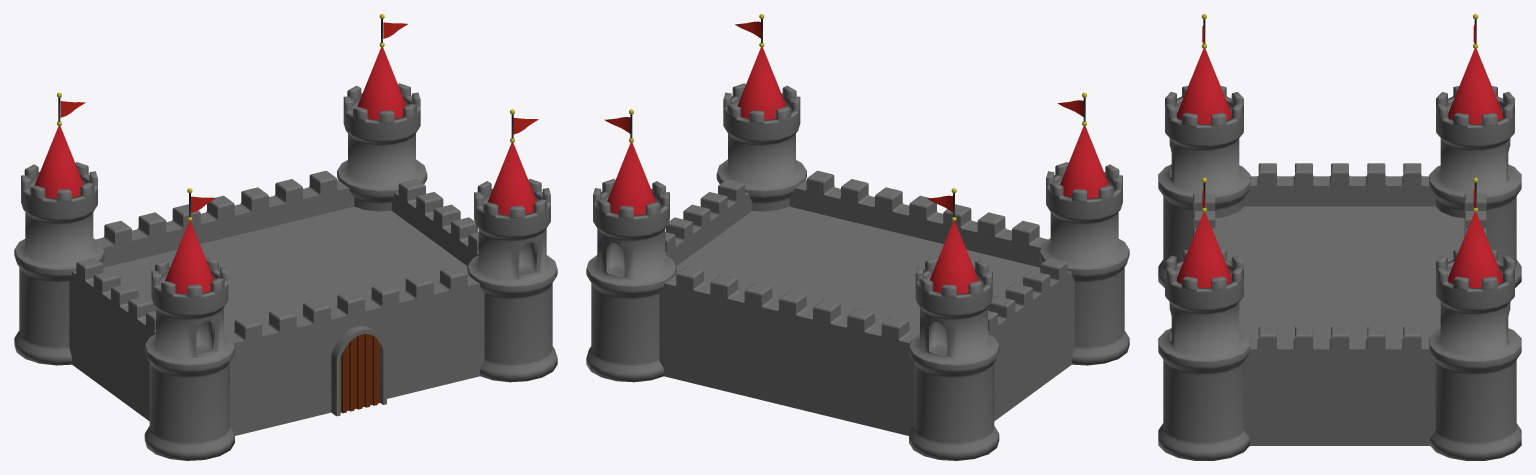
The model's file is Castle.fbx.
3 views of the same model, side by side, from view 1: azimuth 30°, elevation 25°; view 2: azimuth 150°, elevation 25°; view 3: azimuth 270°, elevation 25° (orthographic). The views are drawn at different scales.
Visible parts, largest first — view 1: Castle; view 2: Castle; view 3: Castle.
Boxes of the visible parts, <box> form: Castle: <box>14,14,557,460</box>; Castle: <box>586,14,1129,460</box>; Castle: <box>1158,14,1521,460</box>.
Bounding box in the file's own units: 4334 × 2628 × 3284.
